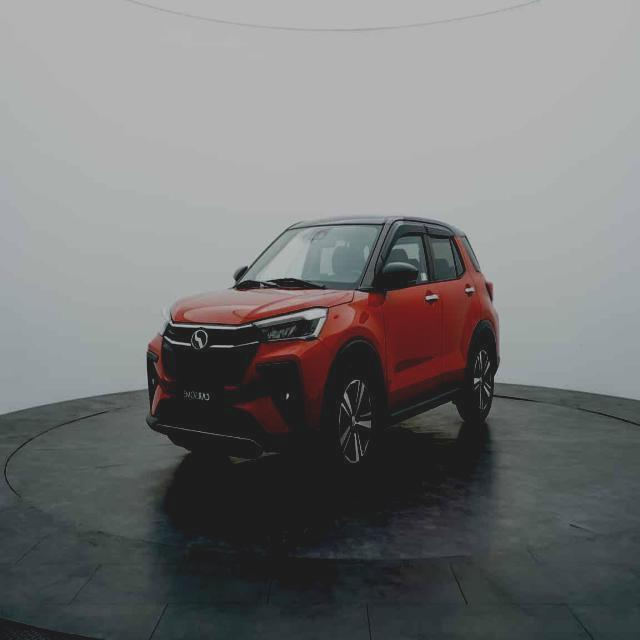PeroduaAtiva: (145, 213, 502, 469)
